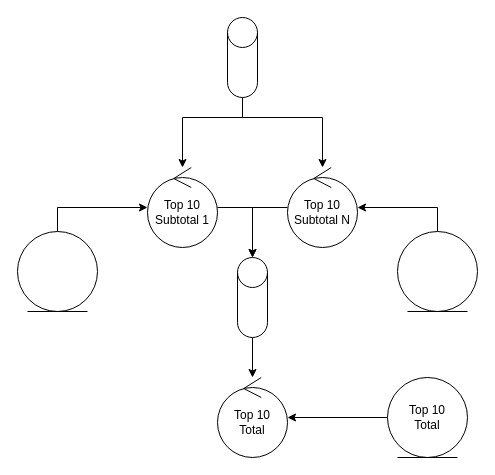
Some shapes in this 495 by 475 pixel diagram are drawn without their labels. Each missing label, with the centre of its shape:
"Top 10 Subtotal 1 Data" belongs at [57,271].
"Top 10 Subtotal N Data" belongs at [437,271].
